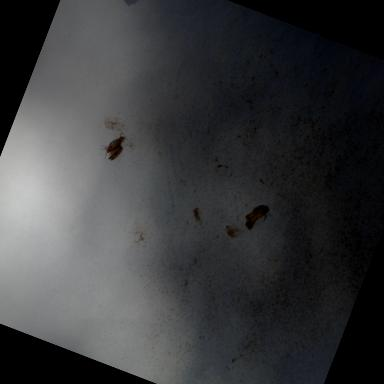pbw: (97, 129, 127, 164), (246, 200, 274, 228)
